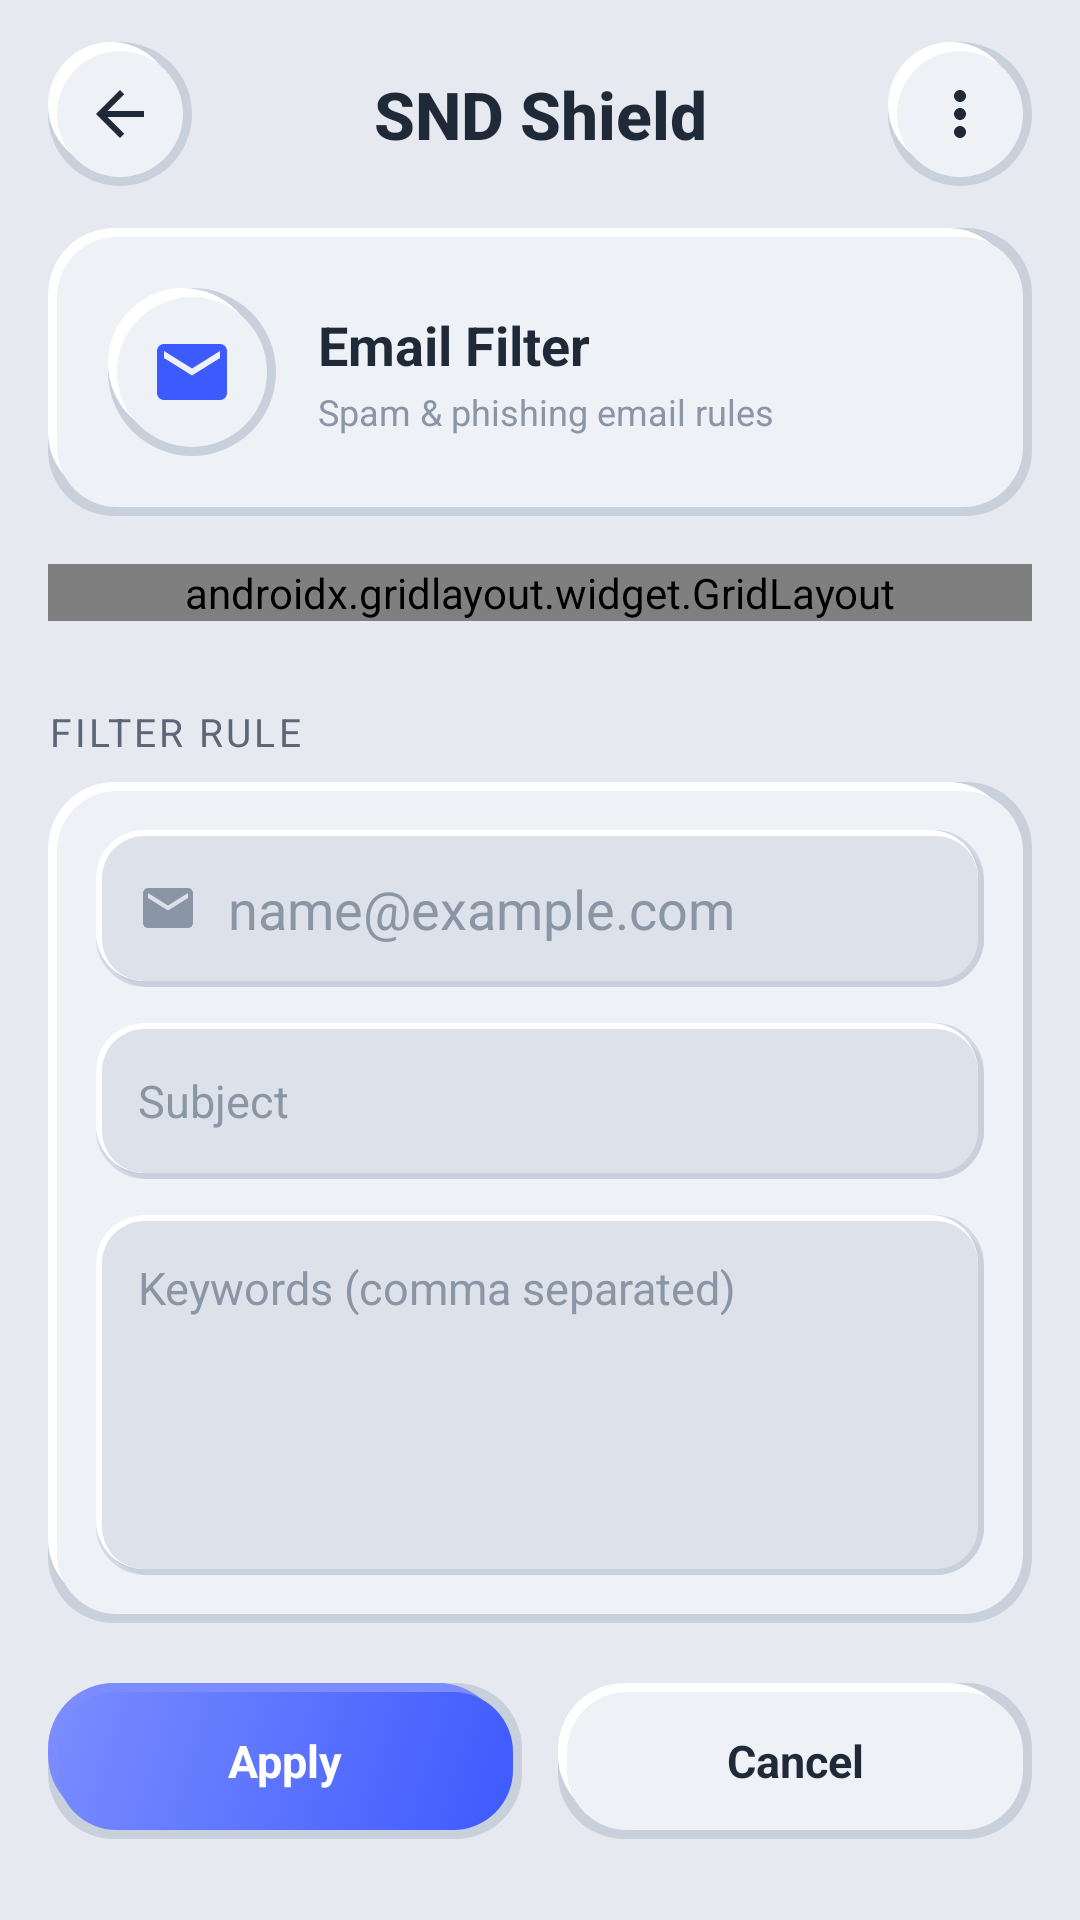

Point at icon controls on the screen. Image size 1080px x 1920px, points as point (x, y).
Back: point (120, 114)
Email: point (168, 908)
